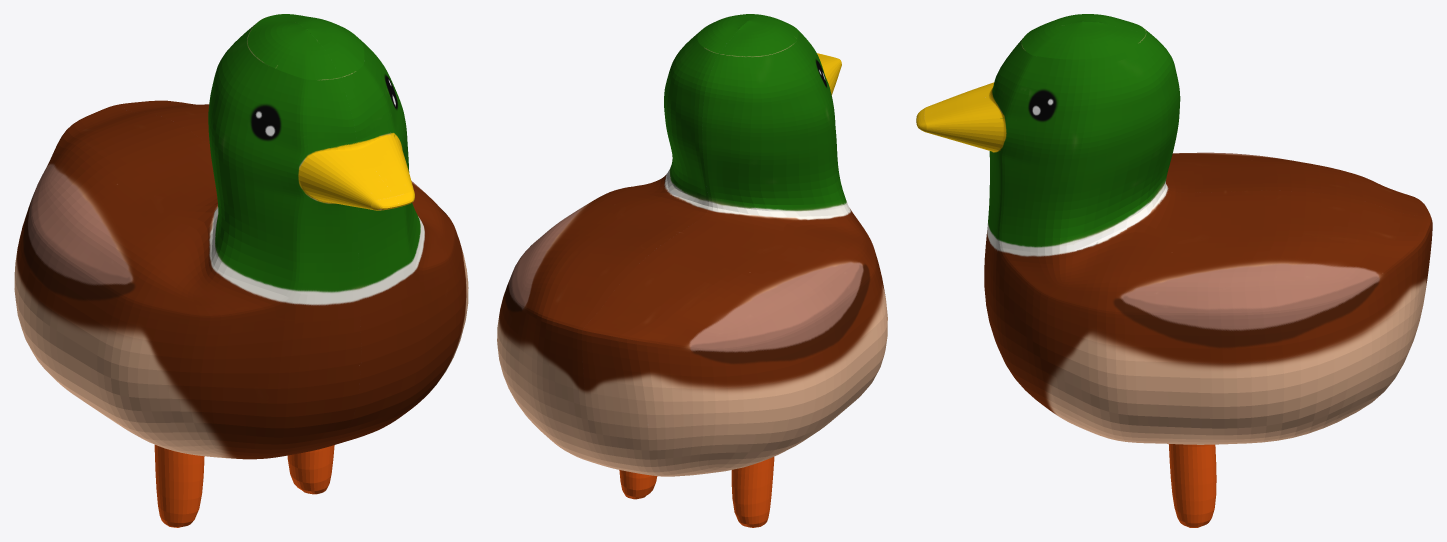
The model's file is duck.fbx.
The picture shows the model from 3 angles, left to right: view 1: azimuth 30°, elevation 25°; view 2: azimuth 150°, elevation 25°; view 3: azimuth 270°, elevation 25°; orthographic projection. The views are drawn at different scales.
Parts seen in each view (by area): view 1: Roundcube; view 2: Roundcube; view 3: Roundcube.
Part boxes in pixels (<box>): Roundcube: <box>14,14,468,527</box>; Roundcube: <box>497,14,887,527</box>; Roundcube: <box>916,14,1432,527</box>.
Bounding box in the file's own units: 197 × 266 × 264.
1 material, 1 textured.
